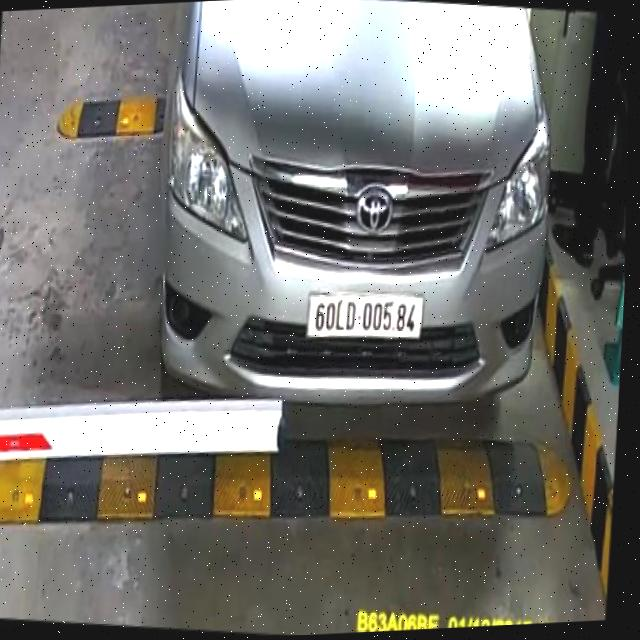car: (139, 0, 572, 433)
plate: (298, 278, 433, 351)
